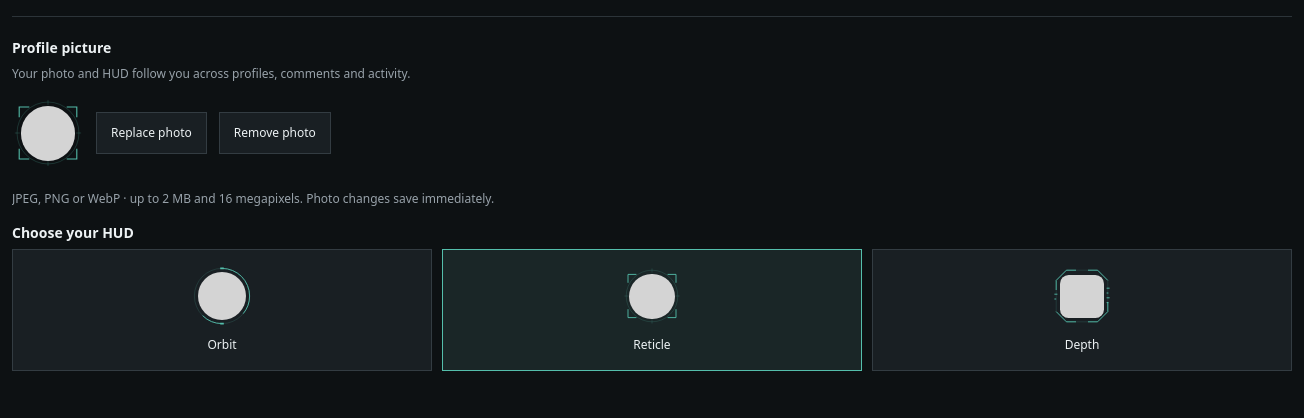
Test: persists a HUD choice and keeps the old selection on failure
The width and height of the screenshot is (1304, 418).
Click the button "Depth" at (1082, 310), box [872, 249, 1292, 371]
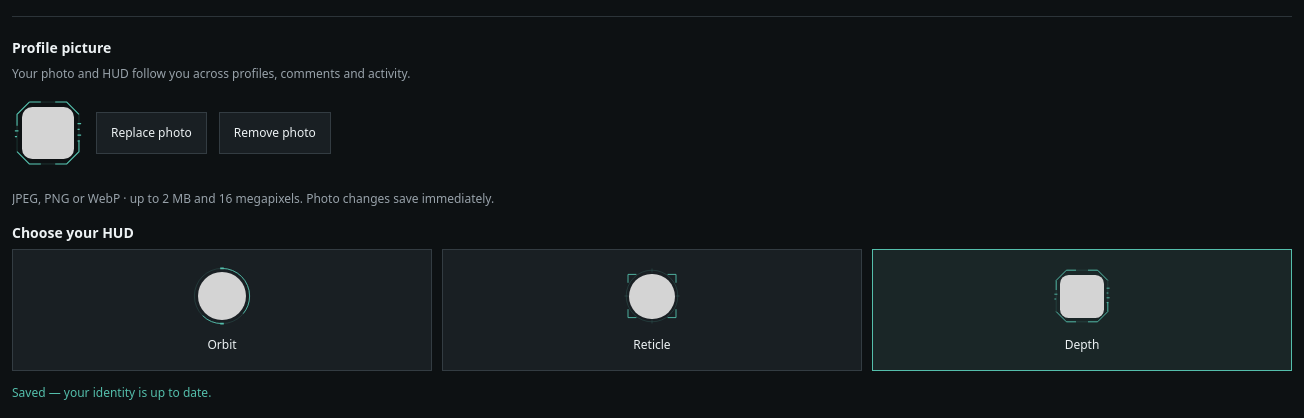
Click the button "Orbit" at (222, 310), box [12, 249, 432, 371]
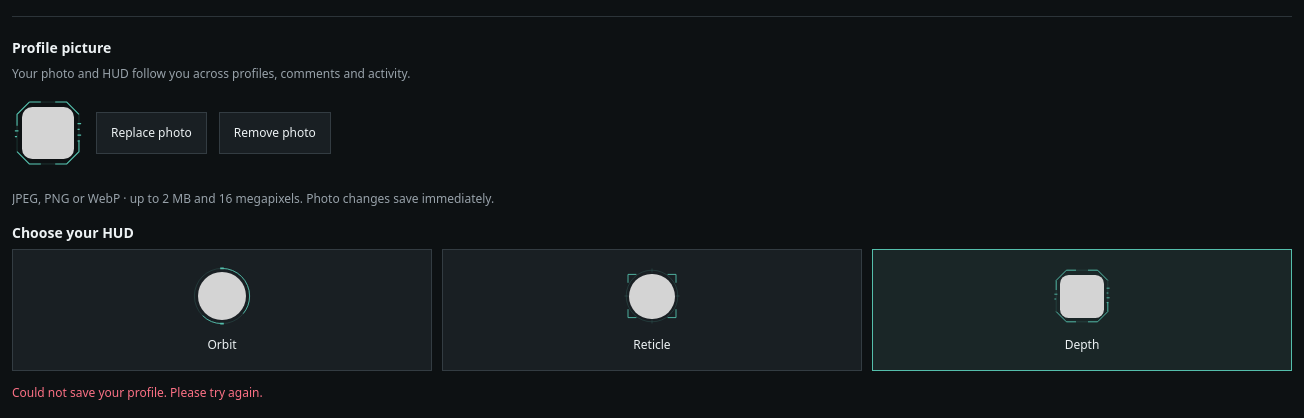
Expected: the message "Could not save your profile. Please try again." is shown, [12, 384, 263, 401]
